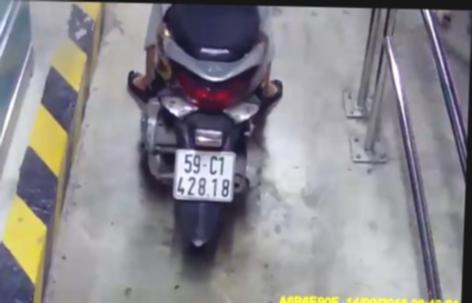License_Plate: (169, 145, 241, 210)
